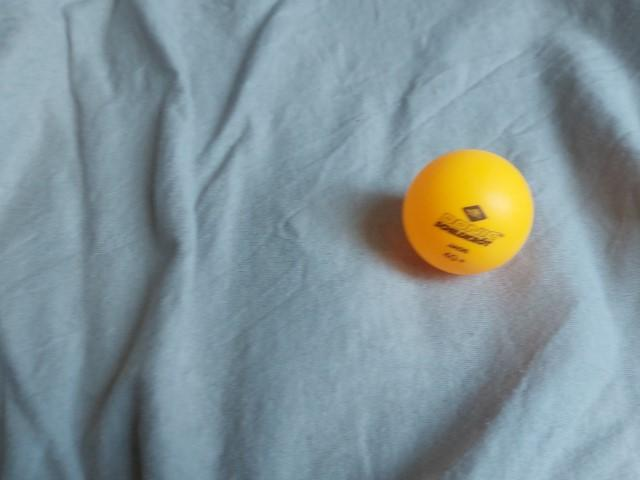oball: (398, 143, 539, 280)
